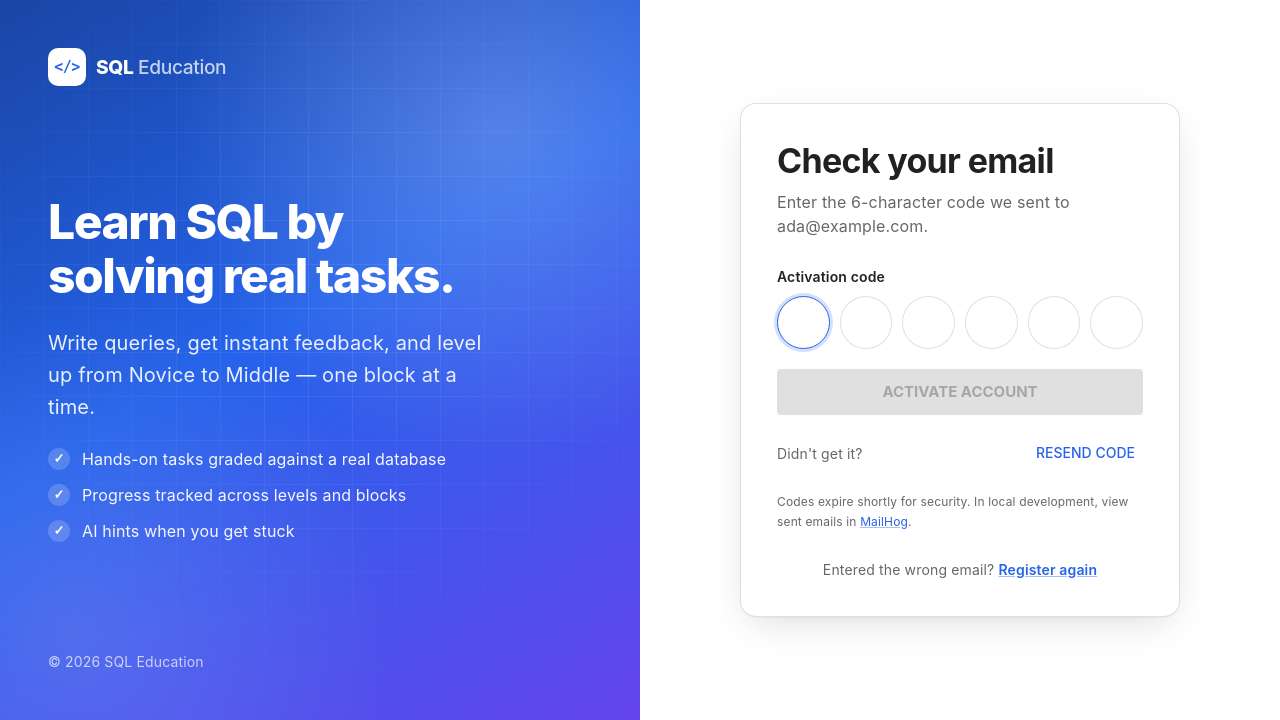
Test case: ActivatePage › shows an error and does not navigate on a wrong code (400)
Type "W" into the field named "Digit 1".
click(803, 323); type("W")  # box [777,296,830,349]
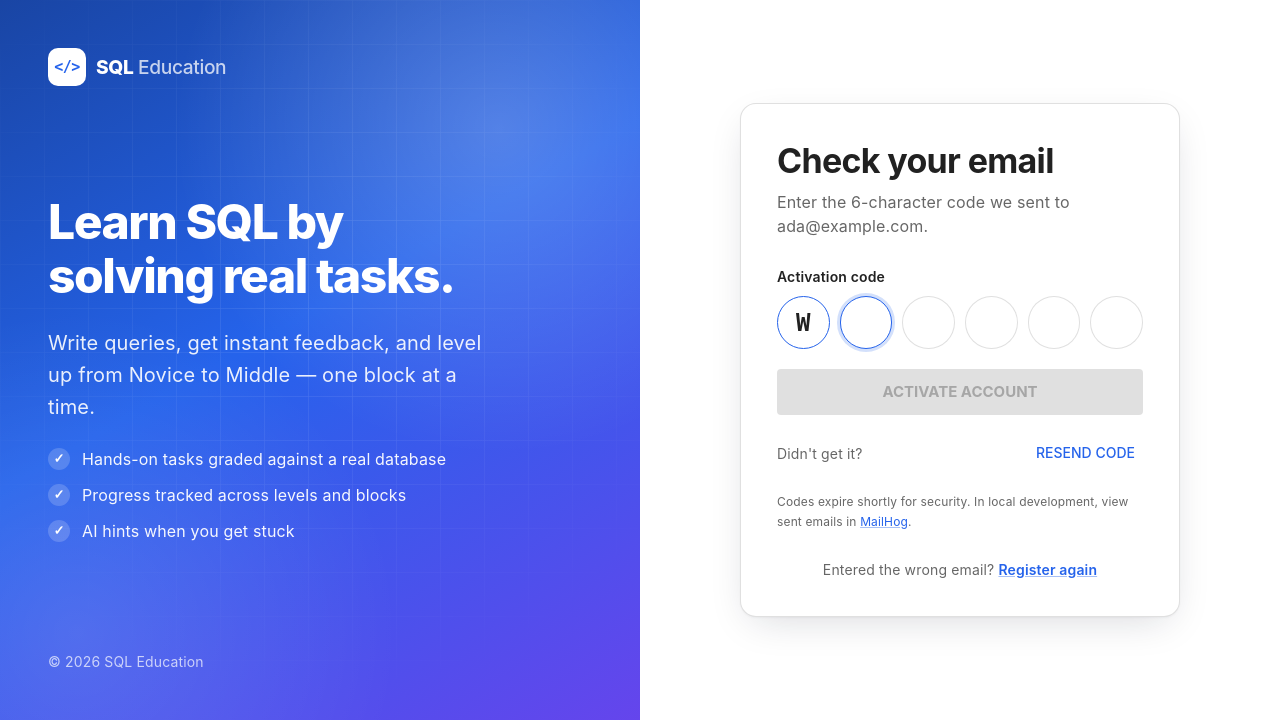
Type "R" into the field named "Digit 2".
click(866, 323); type("R")  # box [840,296,892,349]
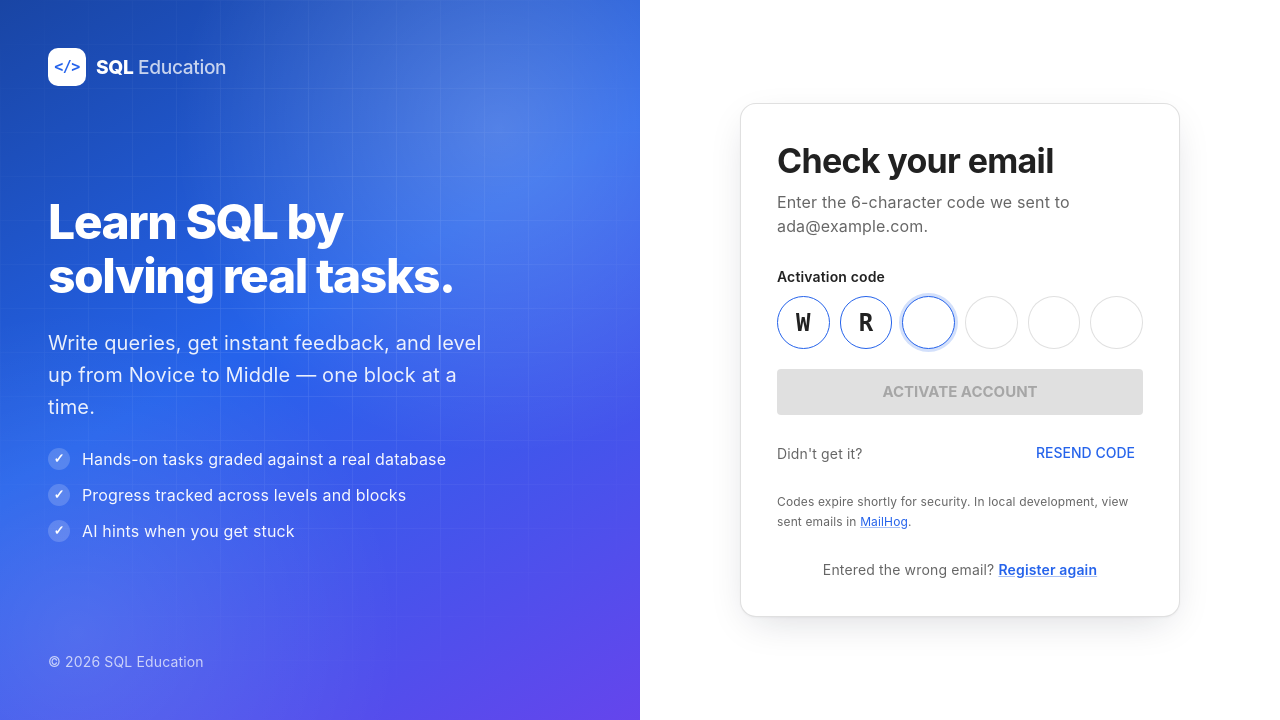
Type "O" into the field named "Digit 3".
click(929, 323); type("O")  # box [902,296,955,349]
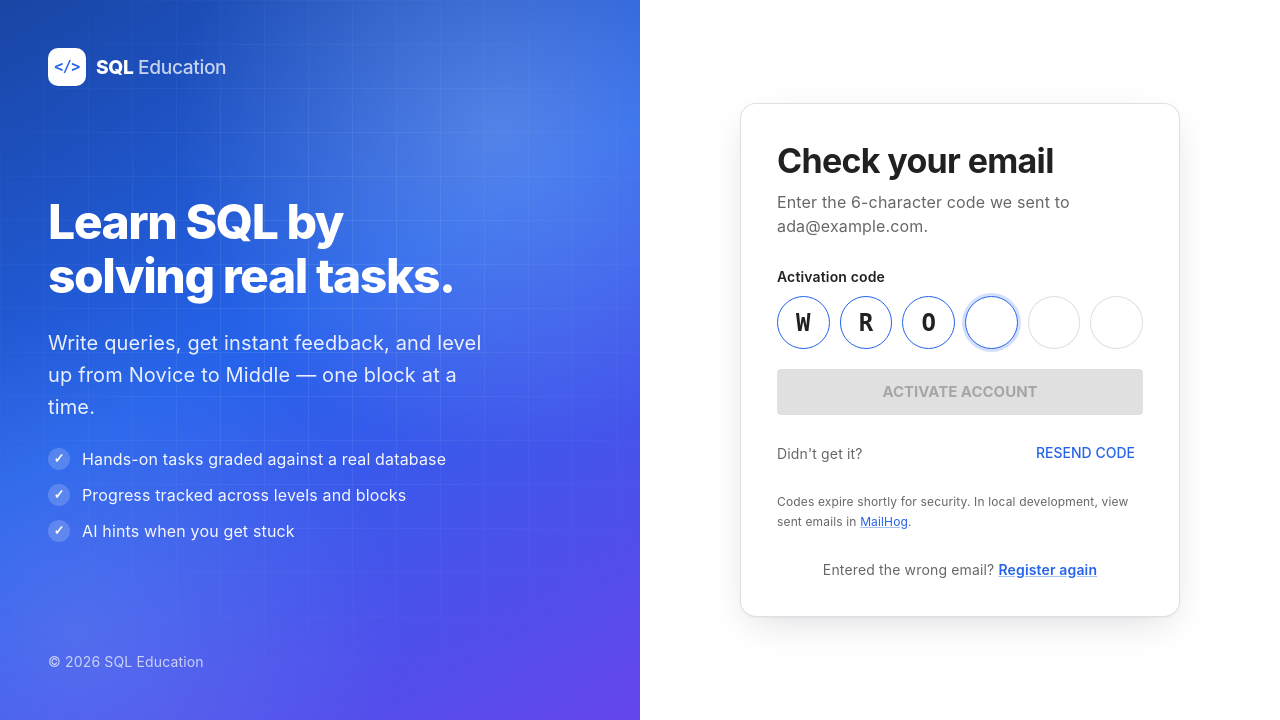
Type "N" into the field named "Digit 4".
click(991, 323); type("N")  # box [965,296,1018,349]
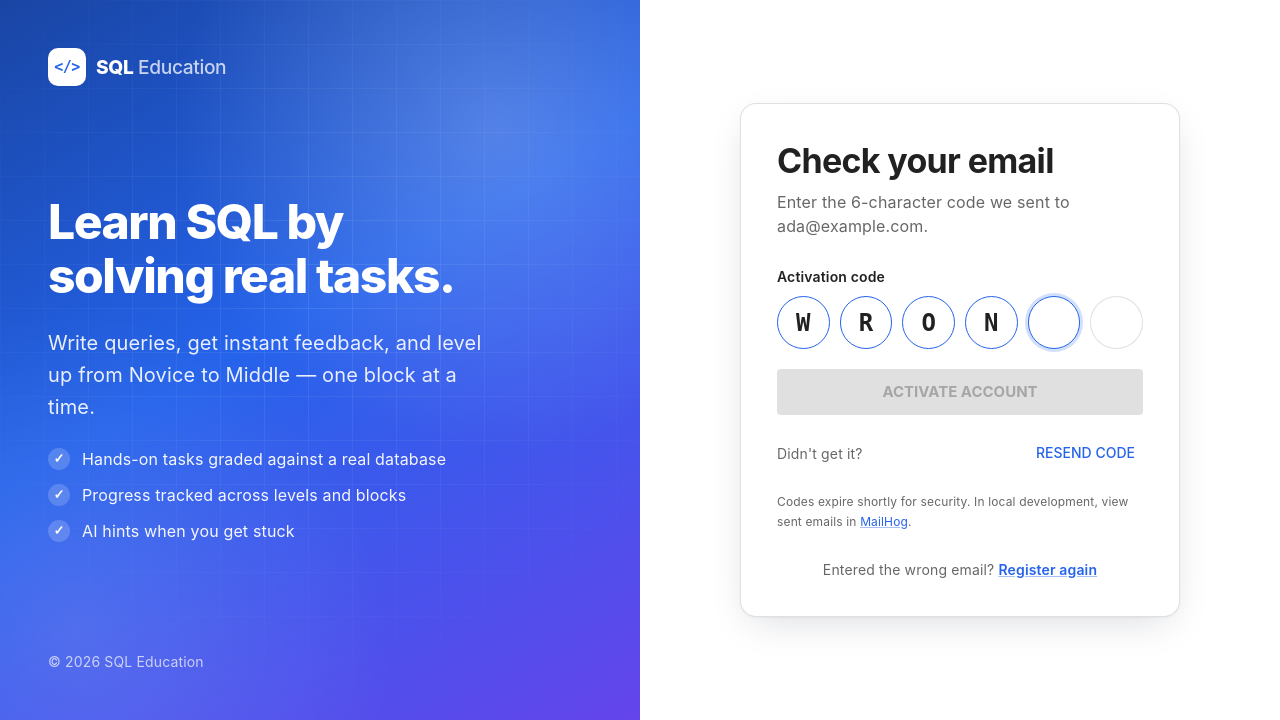
Type "G" into the field named "Digit 5".
click(1054, 323); type("G")  # box [1028,296,1080,349]
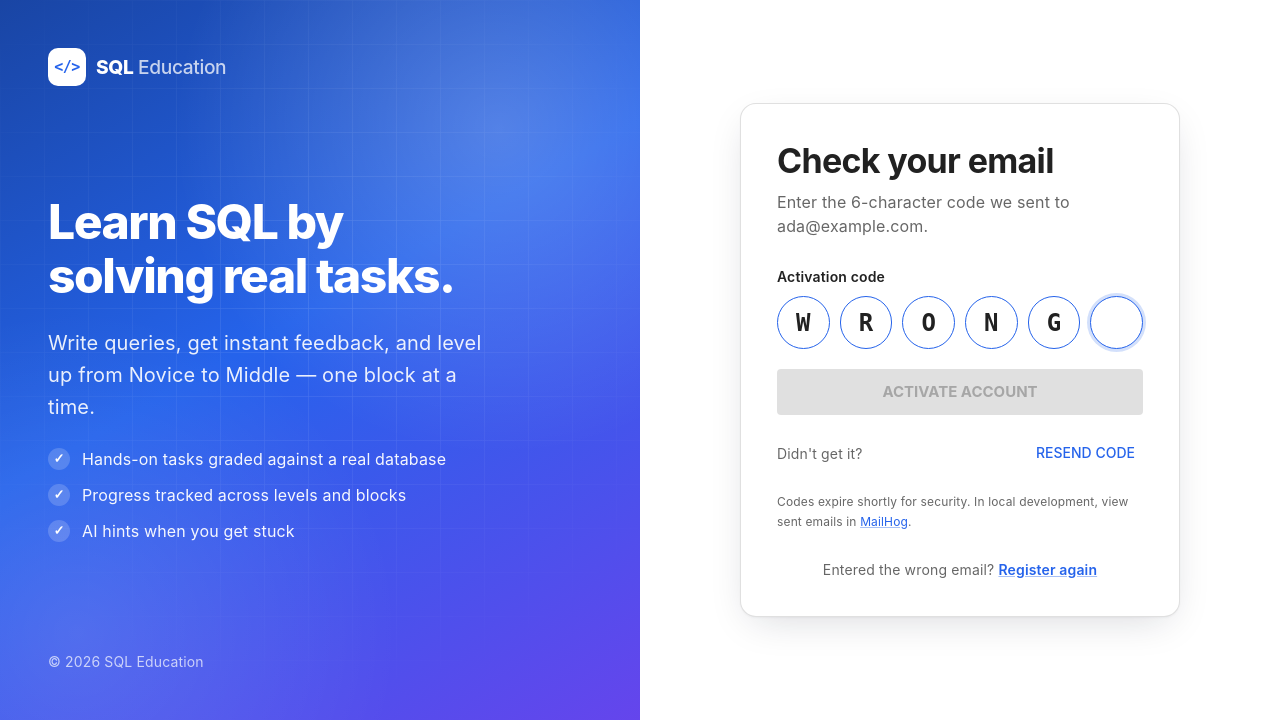
Type "1" into the field named "Digit 6".
click(1117, 323); type("1")  # box [1090,296,1143,349]
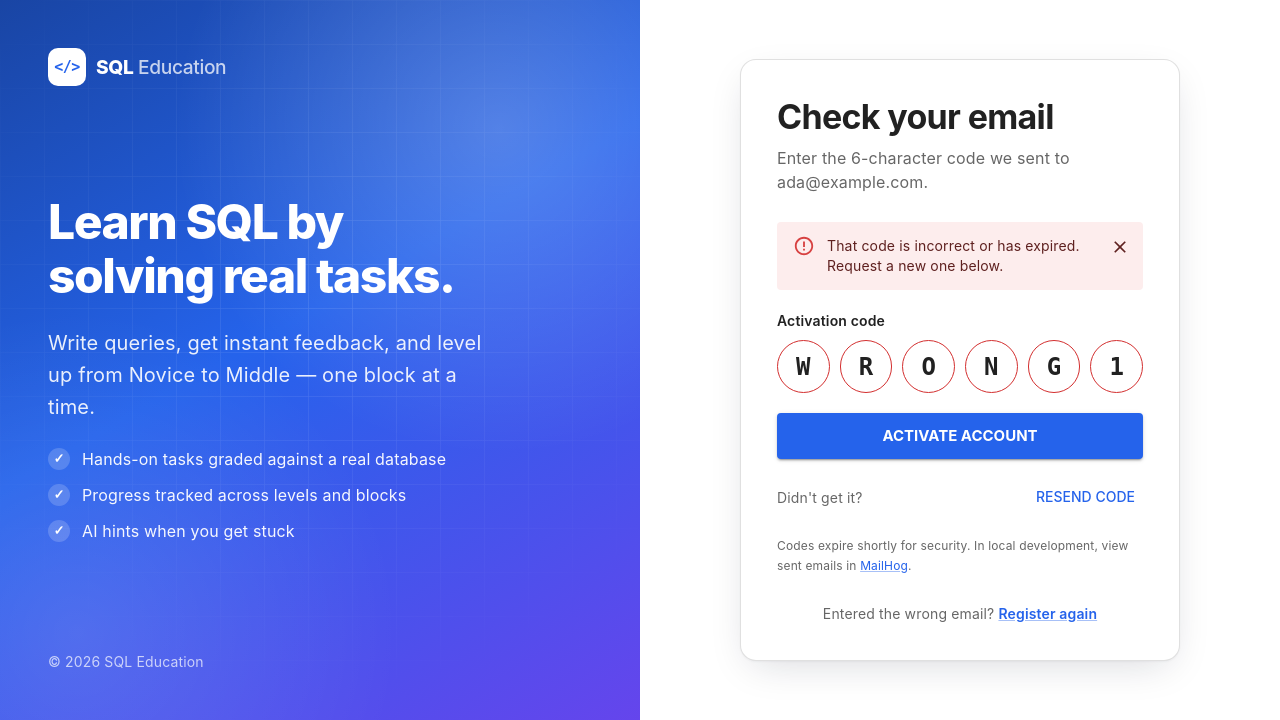
Check: the text "incorrect or has expired" is shown, box [827,237,1080,274]
